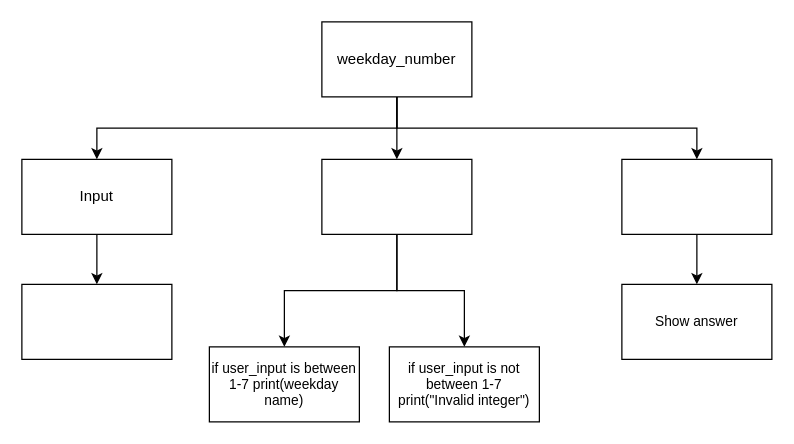
This 794x444 diagram has some shape labels left out. The centre of each missing label's shape, as x and y in pixels:
get user_input: (x=96, y=321)
Output: (x=696, y=196)
Process: (x=396, y=196)
